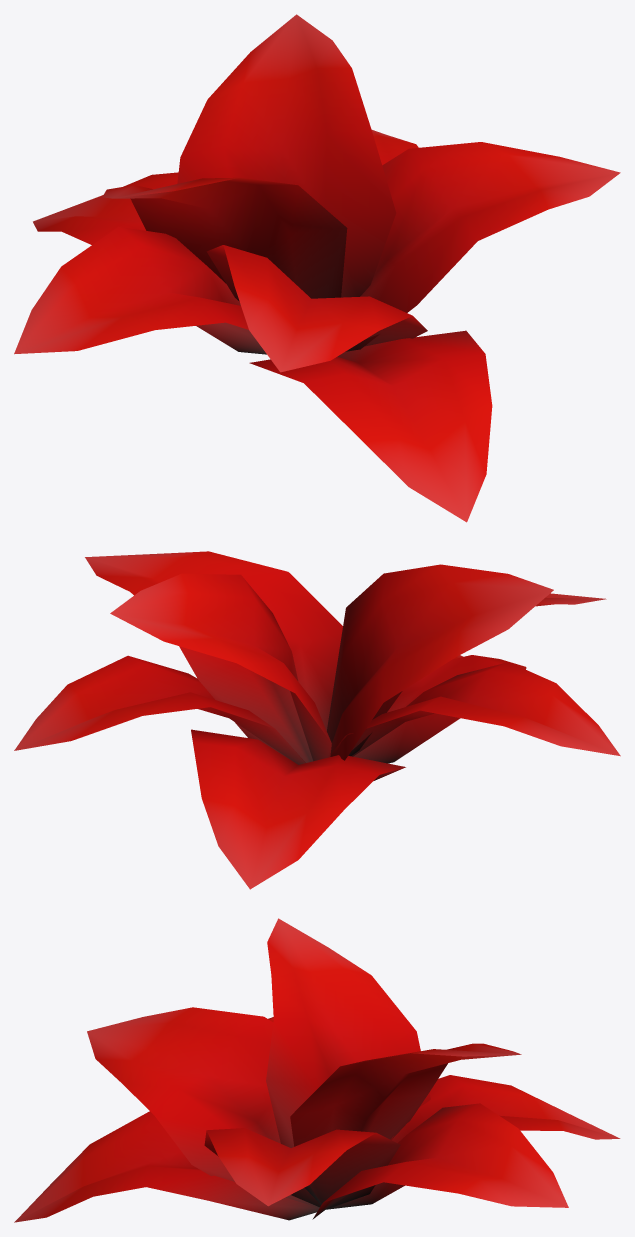
Rendered from FatPlant_02.fbx.
3 renders of one model, top to bottom at view 1: azimuth 30°, elevation 25°; view 2: azimuth 150°, elevation 25°; view 3: azimuth 270°, elevation 25°, orthographic. The views are drawn at different scales.
Parts seen in each view (by area): view 1: GrassPlant_02; view 2: GrassPlant_02; view 3: GrassPlant_02.
Boxes of the visible parts, x1,y1,x2,y2 form: GrassPlant_02: [14, 14, 620, 522]; GrassPlant_02: [14, 551, 620, 889]; GrassPlant_02: [14, 918, 620, 1222].
Bounding box in the file's own units: 331 × 140 × 347.
